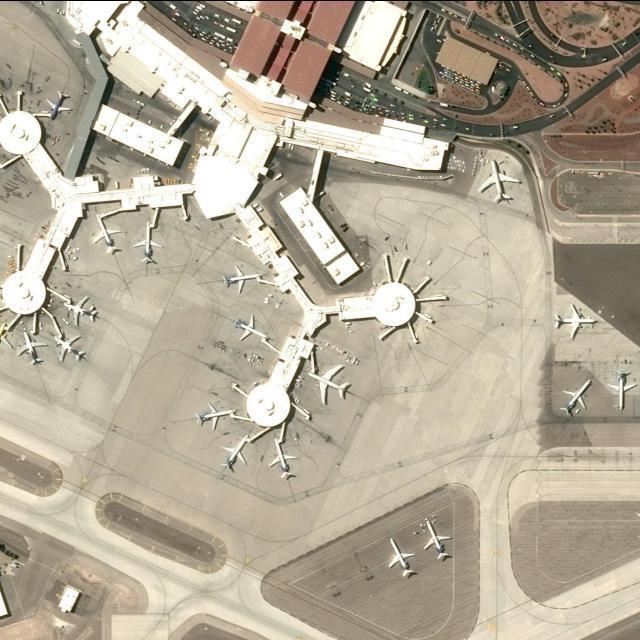Aircraft: (479, 160, 525, 206), (307, 363, 354, 405), (554, 301, 602, 341), (561, 378, 597, 420), (135, 220, 166, 265), (424, 517, 453, 562), (271, 437, 300, 482), (389, 537, 420, 579), (17, 331, 52, 368), (608, 370, 638, 412), (194, 401, 235, 431), (93, 214, 123, 255), (223, 267, 266, 295), (222, 434, 252, 473), (234, 314, 272, 344), (66, 295, 100, 327), (45, 89, 76, 123), (55, 333, 89, 363), (0, 320, 14, 356)
